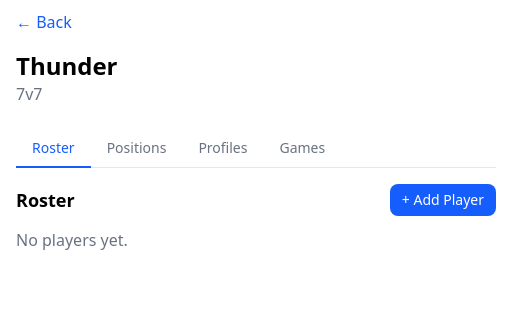
Test case: TeamDetail › positions tab › shows segmented control in positions tab
Expected: the heading "Thunder" is shown, [16,49,118,82]
Click the tab "Positions" at (136, 149), box [91,130,182,168]
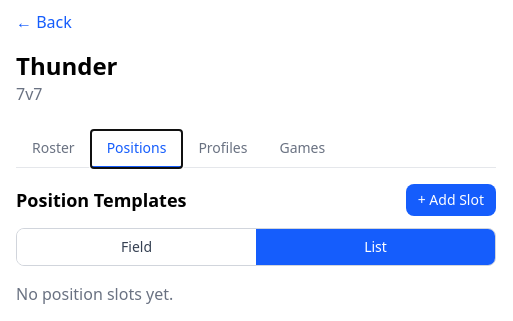
Expected: the button "Field" is shown, [17,229,256,265]
Expected: the button "List" is shown, [256,229,495,265]
